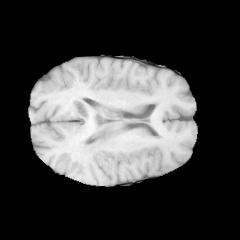glioma: (71, 99, 116, 156)
